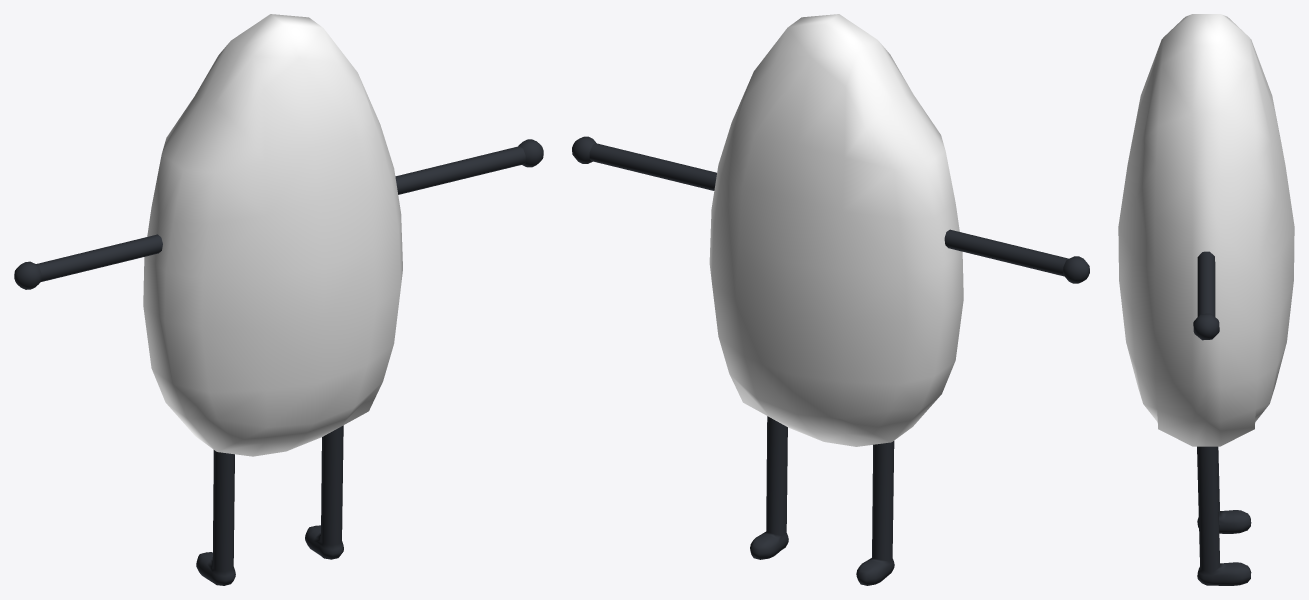
The model's file is Rice_sample.fbx.
3 views of the same model, side by side, from view 1: azimuth 30°, elevation 25°; view 2: azimuth 150°, elevation 25°; view 3: azimuth 270°, elevation 25° (orthographic). The views are drawn at different scales.
Parts seen in each view (by area): view 1: body, polySurface4, polySurface5, polySurface2, polySurface3; view 2: body, polySurface4, polySurface5, polySurface2, polySurface3; view 3: body, polySurface5, polySurface3, polySurface4.
Boxes of the visible parts, bbox=[...] form: body: bbox=[143, 14, 402, 456]; polySurface4: bbox=[196, 450, 235, 585]; polySurface5: bbox=[305, 425, 343, 559]; polySurface2: bbox=[14, 234, 162, 289]; polySurface3: bbox=[395, 139, 543, 194]; body: bbox=[709, 14, 963, 446]; polySurface4: bbox=[856, 441, 894, 585]; polySurface5: bbox=[750, 416, 788, 559]; polySurface2: bbox=[944, 229, 1089, 283]; polySurface3: bbox=[572, 136, 716, 190]; body: bbox=[1118, 14, 1294, 446]; polySurface5: bbox=[1197, 446, 1251, 585]; polySurface3: bbox=[1193, 251, 1219, 340]; polySurface4: bbox=[1197, 446, 1251, 533].
Size of the model in its own units: 33.15 by 33.18 by 9.79.
